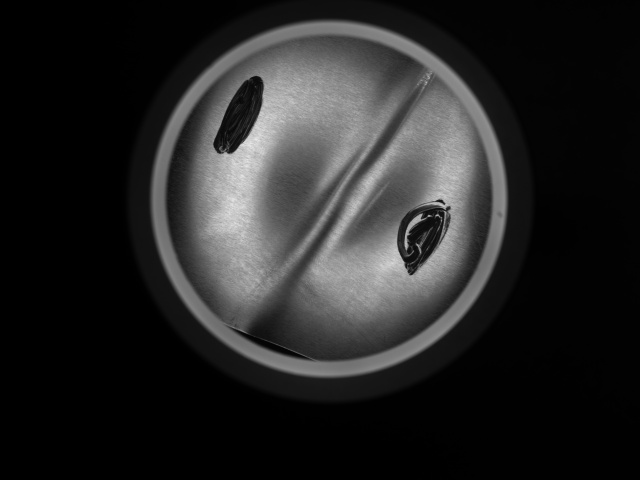zang_wu: (209, 74, 272, 156), (394, 198, 454, 276)
zhe_zhou: (208, 69, 449, 332)
